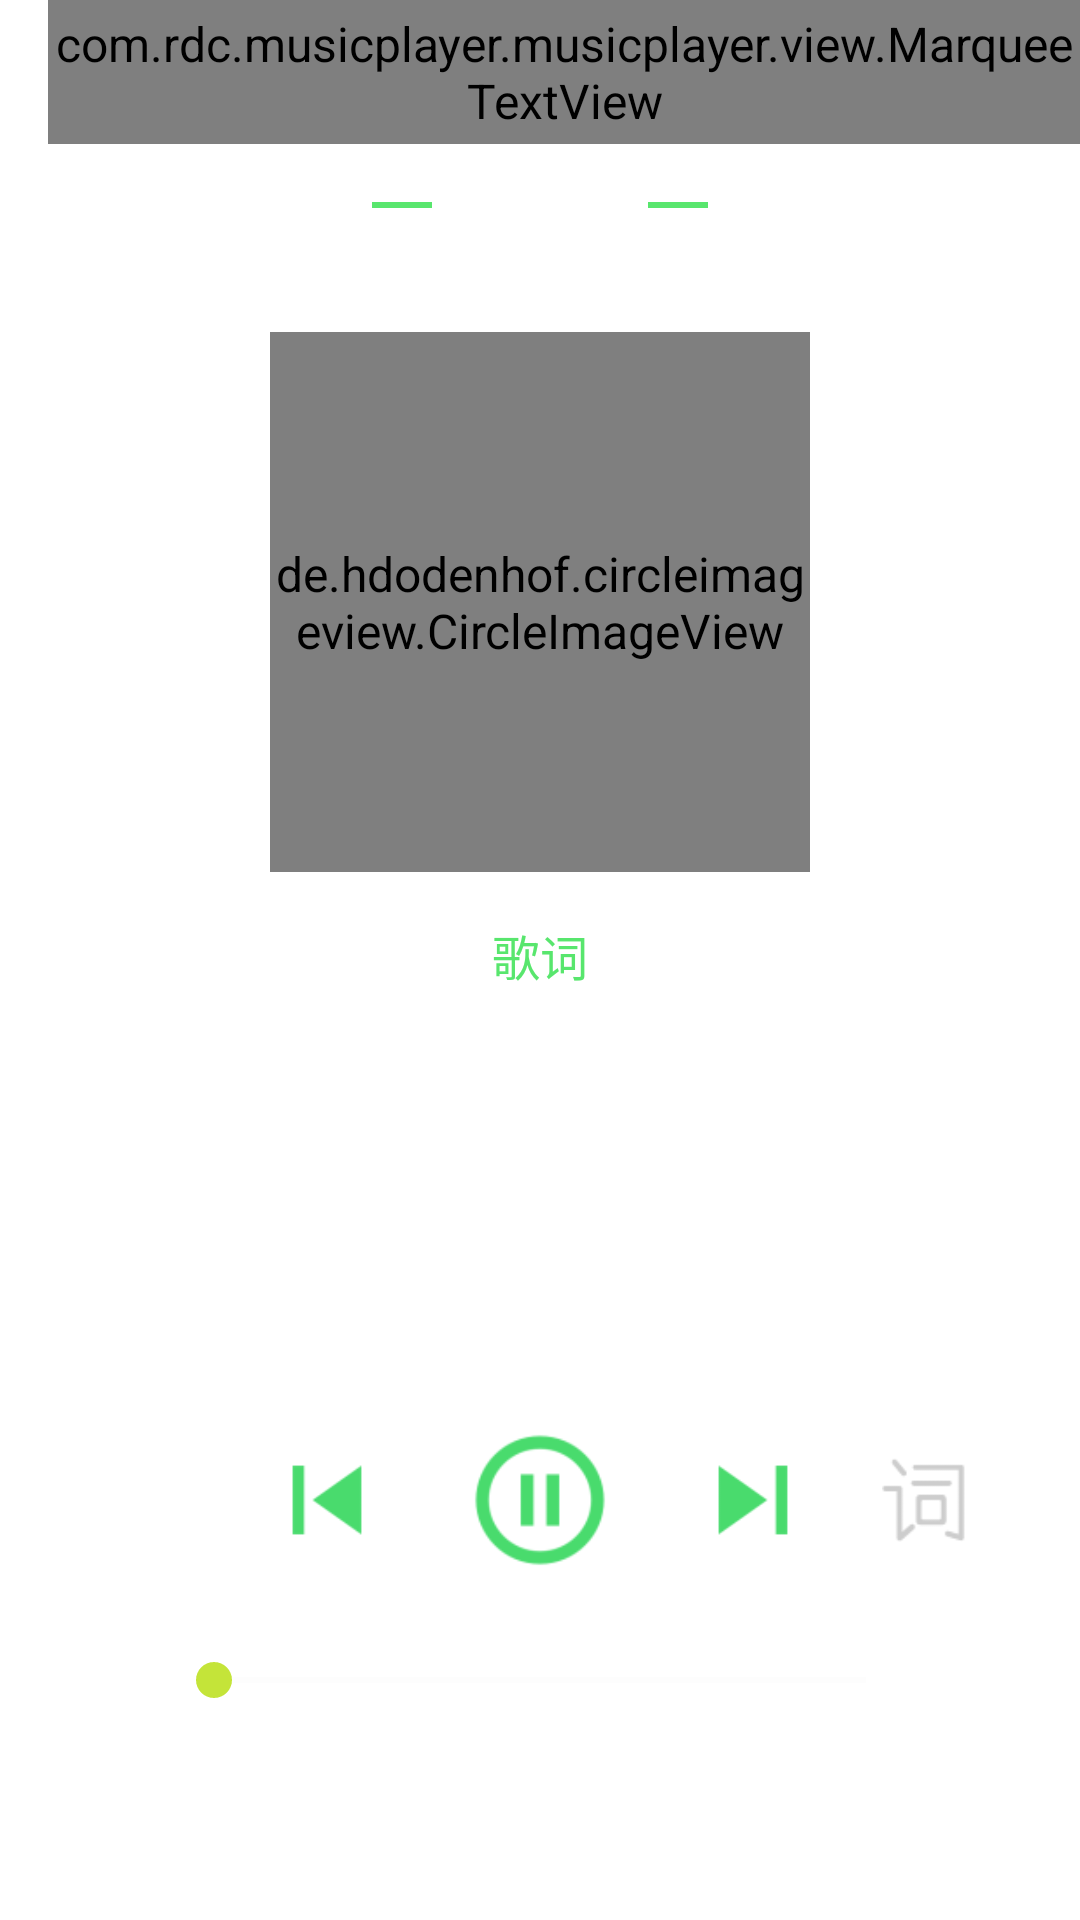

Locate icon controls on the screen. Image size 1080 x 1920, boxes as (x1, y1, x2, y2).
pause: (475, 1435, 605, 1565)
play next: (718, 1465, 788, 1535)
play pre: (292, 1465, 362, 1535)
